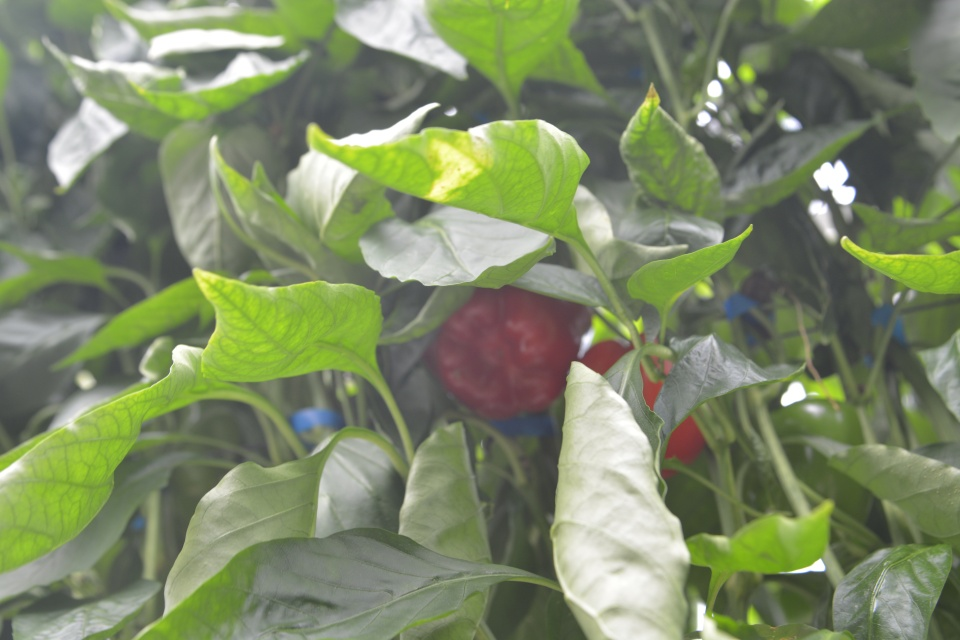fruit: (422, 284, 593, 424), (574, 330, 707, 477), (757, 392, 875, 534)
